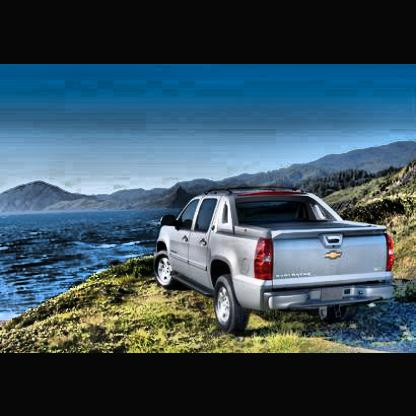Chevrolet Avalanche Crew Cab 2012: (154, 186, 399, 335)
